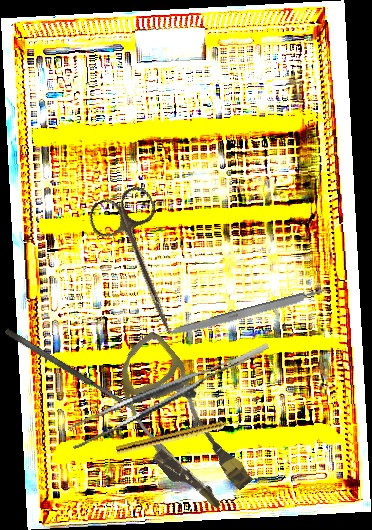Cannula: (89, 328, 270, 521)
Handpiece: (115, 415, 241, 458)
Iris Scissors: (84, 182, 203, 346)
Scalpel Handle: (166, 287, 326, 340)
Spatula Surgical: (3, 326, 133, 412)
Tissue Forceps: (60, 342, 281, 450)
